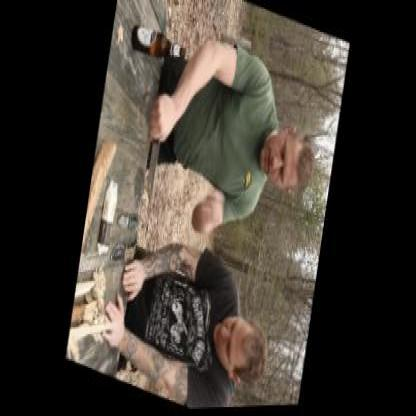knife: (134, 94, 172, 214)
